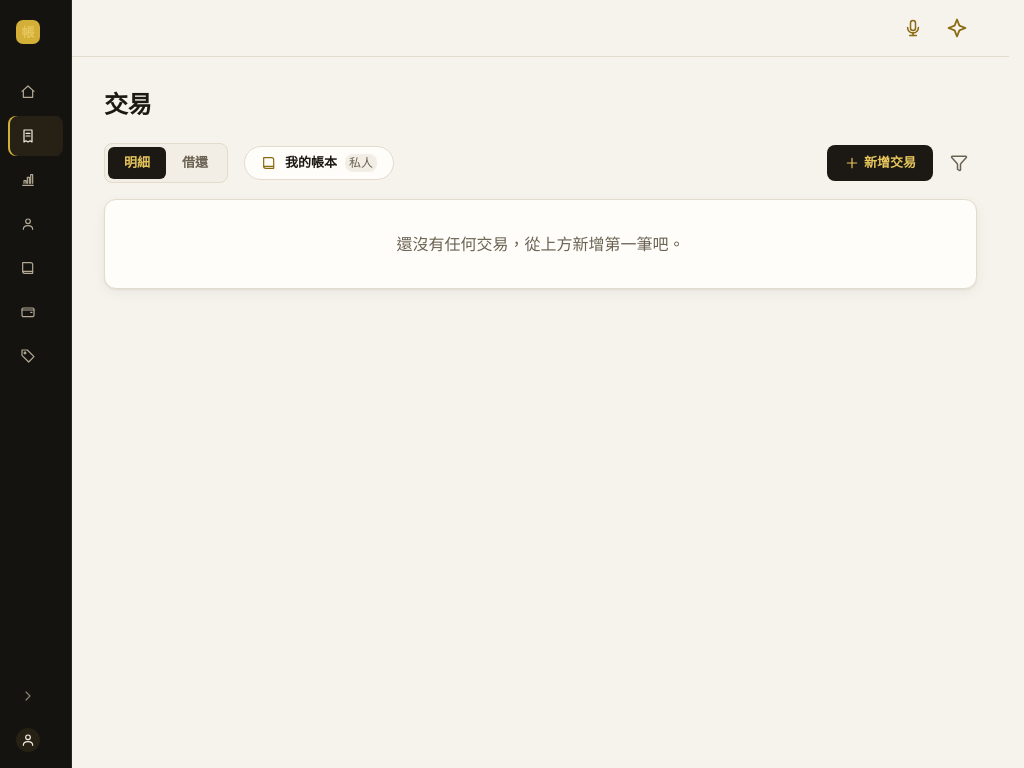
Test: Filtering and paging the transaction list › says the filter found nothing, not that the ledger is empty
Expected: the text "還沒有任何交易，從上方新增第一筆吧。" is shown, x1=396 y1=233 x2=684 y2=255
Click the button named "篩選": (959, 163) x1=941 y1=145 x2=977 y2=181
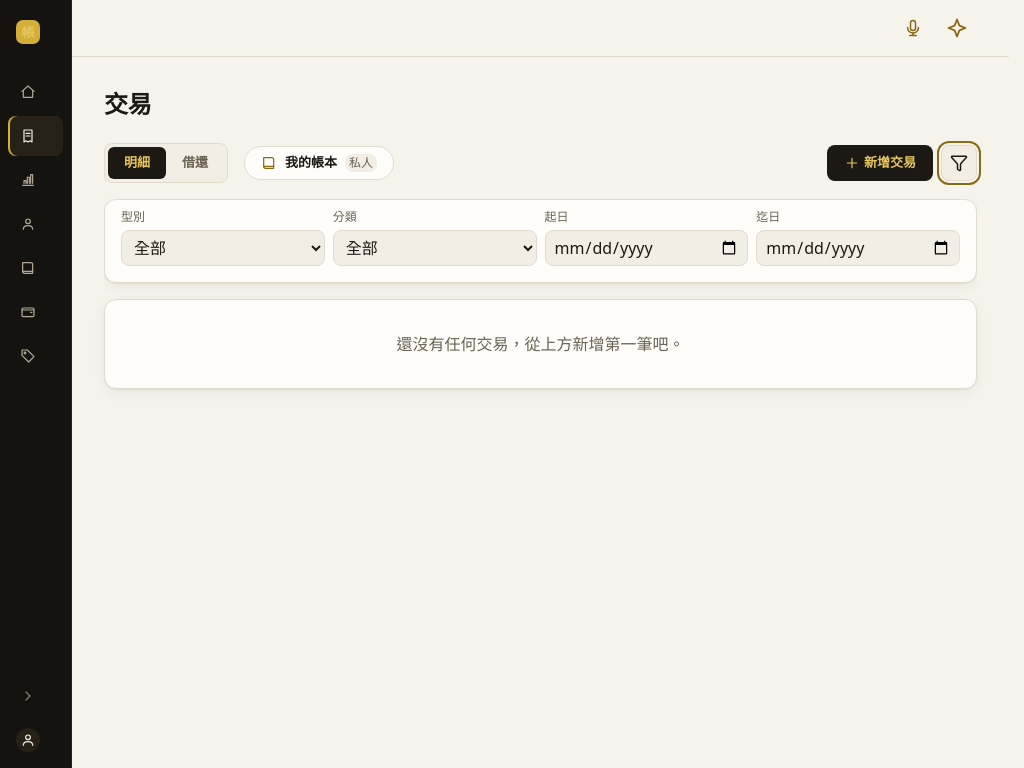
Select "收入" in the dropdown labelled "型別": (223, 248) x1=121 y1=230 x2=325 y2=266
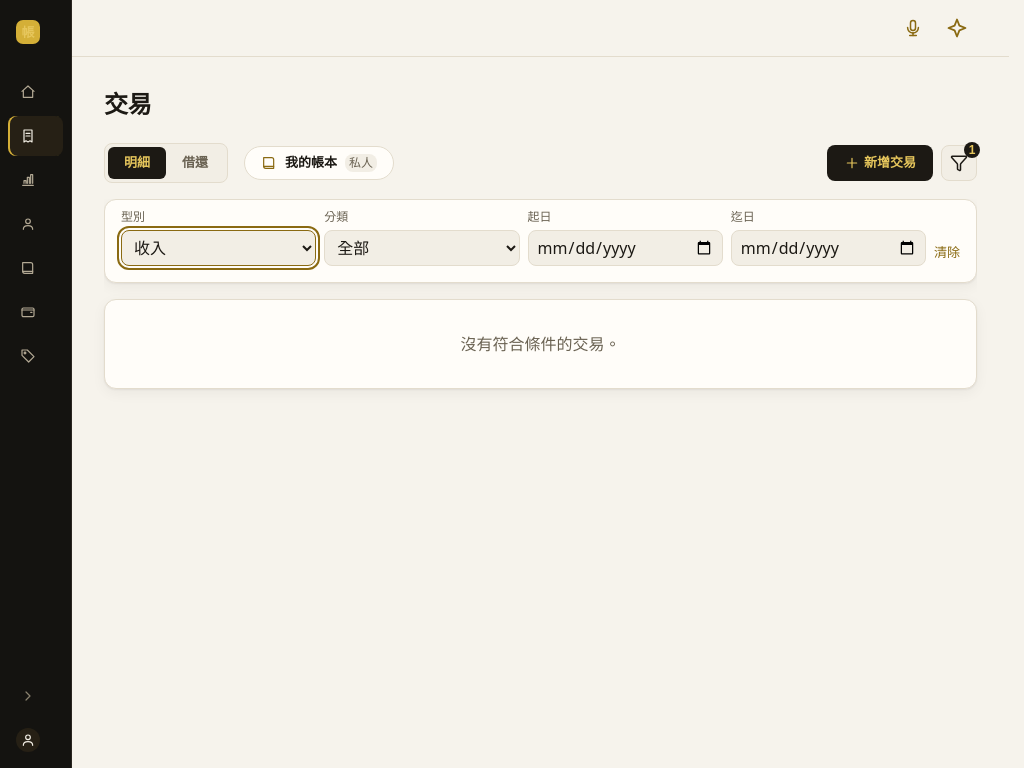
Now the text "沒有符合條件的交易。" is shown, box x1=460 y1=333 x2=620 y2=355
